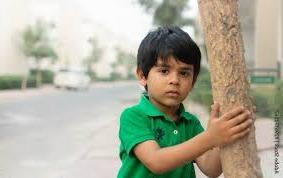Human: (116, 21, 247, 178)
